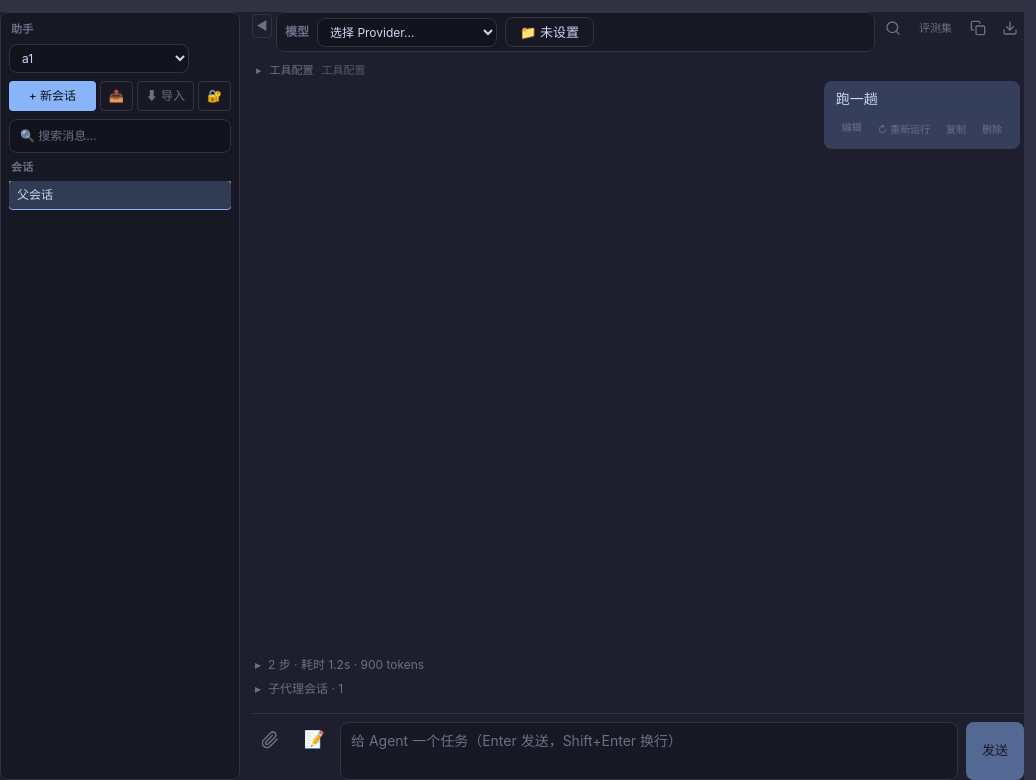
Test case: 分步明细里的入参／返回／模型 › 有记录的行：展开后三列逐字出现（模型是这一步实际跑的那台，不是会话上那个标签）
Click the button titled "查看本次运行分步明细": (338, 665) x1=252 y1=657 x2=424 y2=673
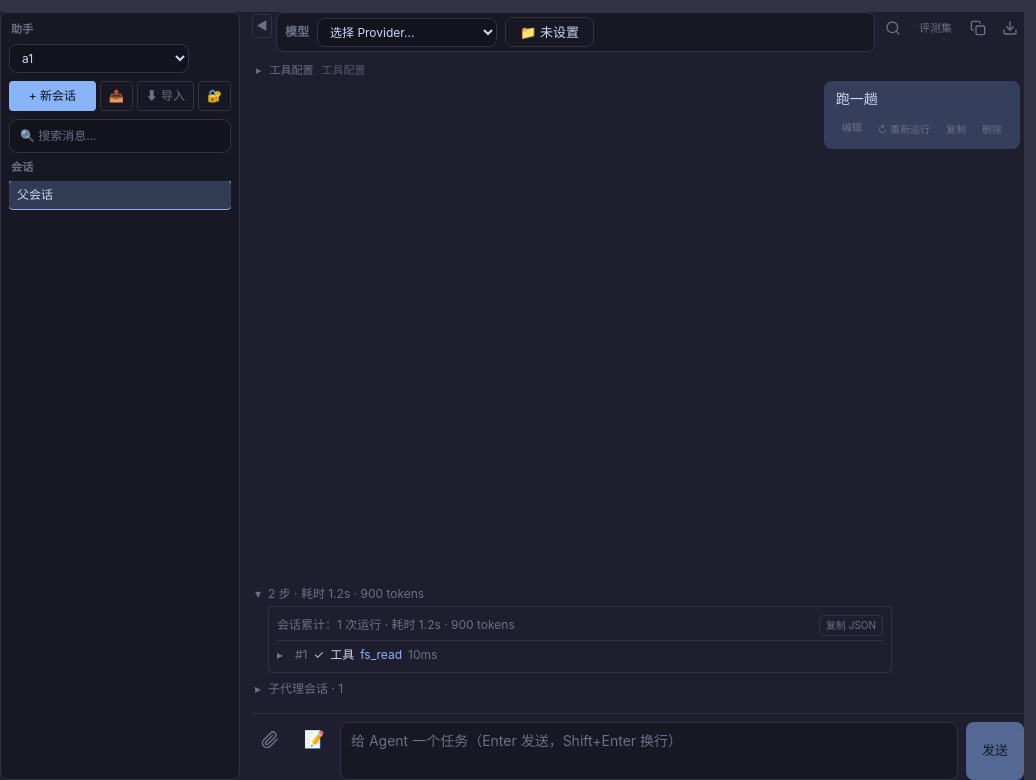
expect the text "工具" is shown: met, box x1=330 y1=644 x2=354 y2=664
Click the button with test id "trace-io-io1": (381, 654) x1=277 y1=644 x2=883 y2=664
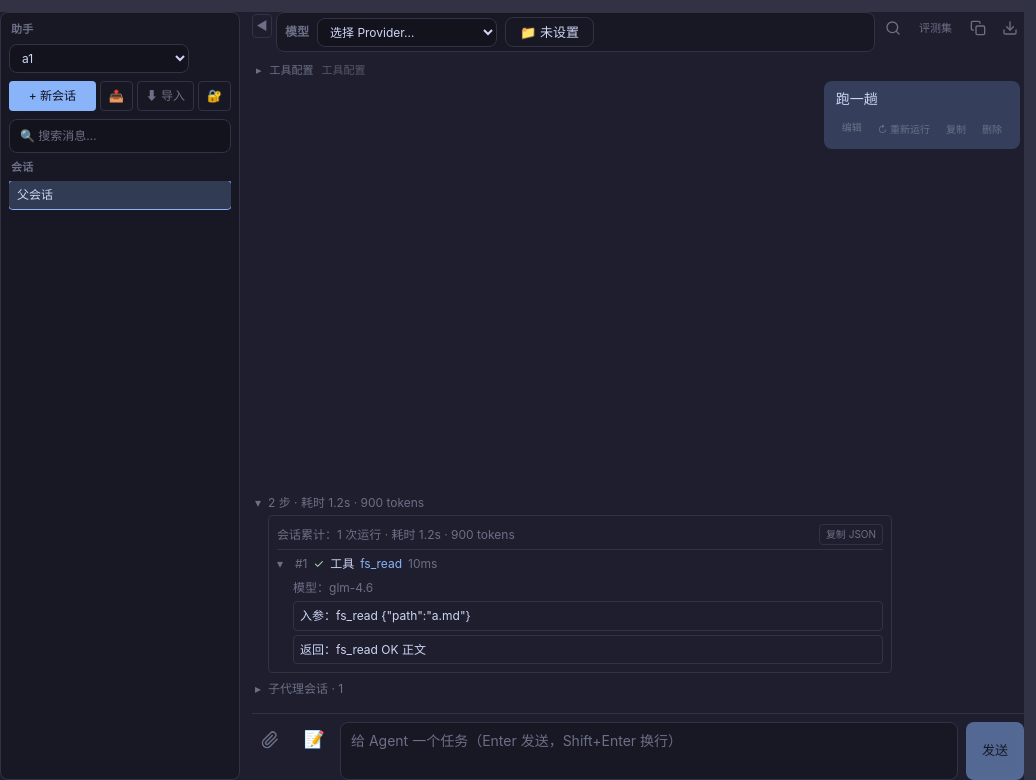
expect the text with test id "trace-model" shows "模型": met, box x1=293 y1=580 x2=317 y2=594
expect the text with test id "trace-model" shows "glm-4.6": met, box x1=329 y1=580 x2=373 y2=594
expect the text with test id "trace-args" shows "fs_read {\"path\":\"a.md\"}": met, box x1=336 y1=608 x2=471 y2=623
